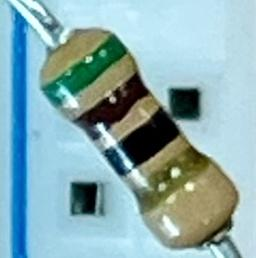Black: (99, 104, 184, 180), (68, 71, 153, 143)
Green: (40, 32, 134, 112)
Side-Gold: (135, 142, 219, 218)
